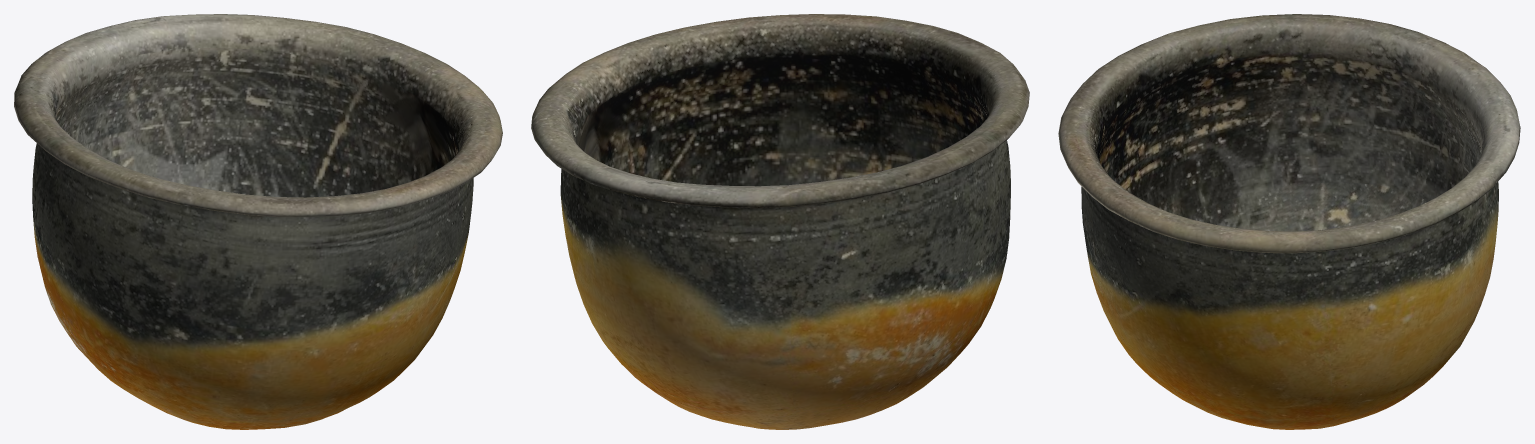
Rendered from EMB_KDG-3-URN92-SL5.glb.
3 renders of one model, left to right at view 1: azimuth 30°, elevation 25°; view 2: azimuth 150°, elevation 25°; view 3: azimuth 270°, elevation 25°, orthographic. The views are drawn at different scales.
Parts seen in each view (by area): view 1: EMB_KDG-3-URN92-SL5; view 2: EMB_KDG-3-URN92-SL5; view 3: EMB_KDG-3-URN92-SL5.
Part boxes in pixels (x1,y1,x2,y2): EMB_KDG-3-URN92-SL5: (14, 14, 502, 429); EMB_KDG-3-URN92-SL5: (531, 14, 1029, 429); EMB_KDG-3-URN92-SL5: (1058, 14, 1520, 429).
Size of the model in its own units: 0.1784 by 0.1271 by 0.1761.
Materials: 1 (1 with a texture image).
